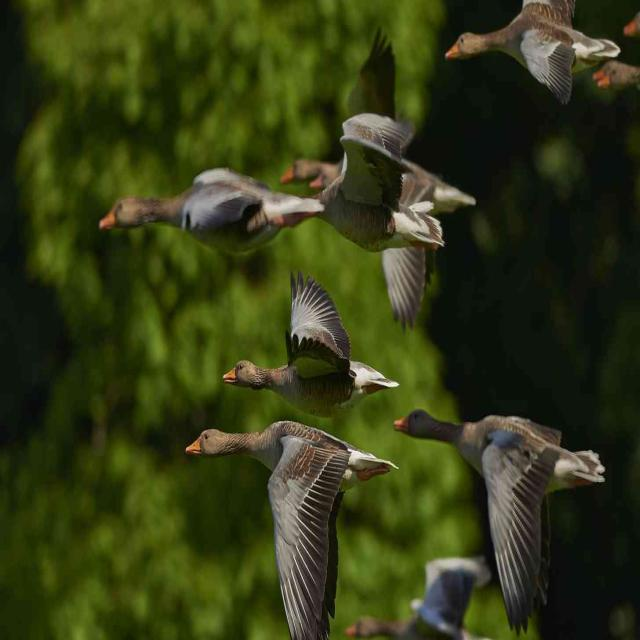bird: (396, 395, 609, 640), (190, 410, 411, 640), (234, 270, 412, 418), (91, 154, 322, 246), (333, 121, 477, 245), (446, 5, 614, 106)
